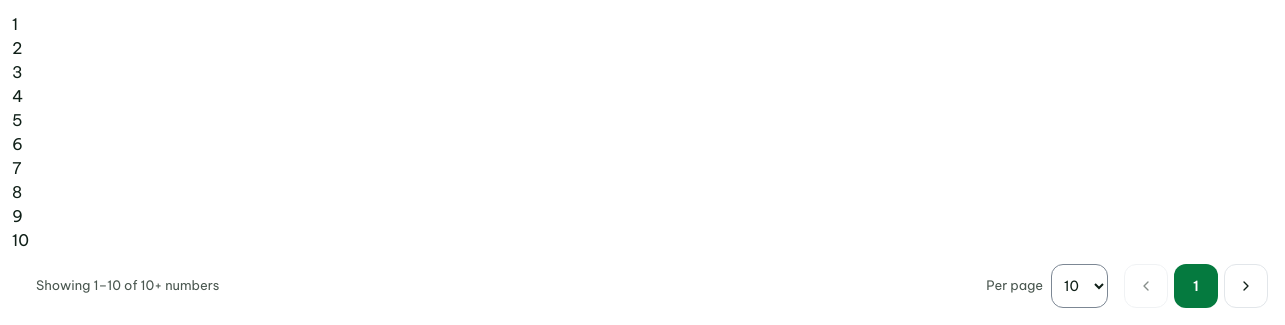
Pager › fetches the next batch when Next is pressed on the last page loaded
Expected: the text "Showing 1–10 of 10+ numbers" is shown, x1=36 y1=277 x2=220 y2=293
What coordinates should you click on to do the following:
click the button named "Next page"
I would click on:
 (1246, 286)
Its box is x1=1224 y1=264 x2=1268 y2=308.
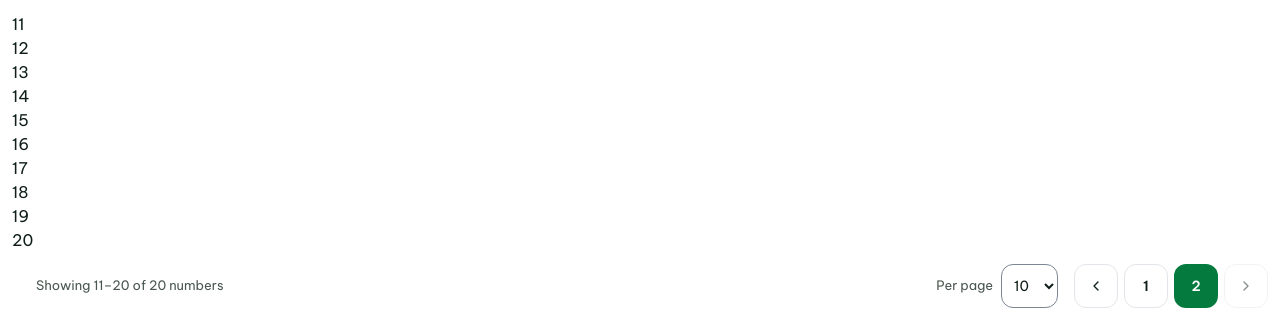
Expected: the text "Showing 11–20 of 20 numbers" is shown, x1=36 y1=277 x2=224 y2=293
